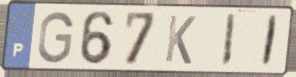6: (77, 9, 116, 67)
7: (122, 10, 159, 69)
G: (35, 10, 76, 66)
I: (259, 13, 281, 69), (218, 12, 238, 70)
K: (163, 13, 198, 67)
